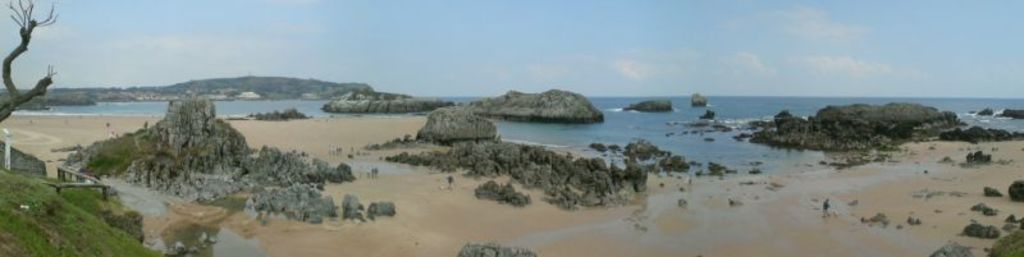Tree: (0, 0, 57, 116)
